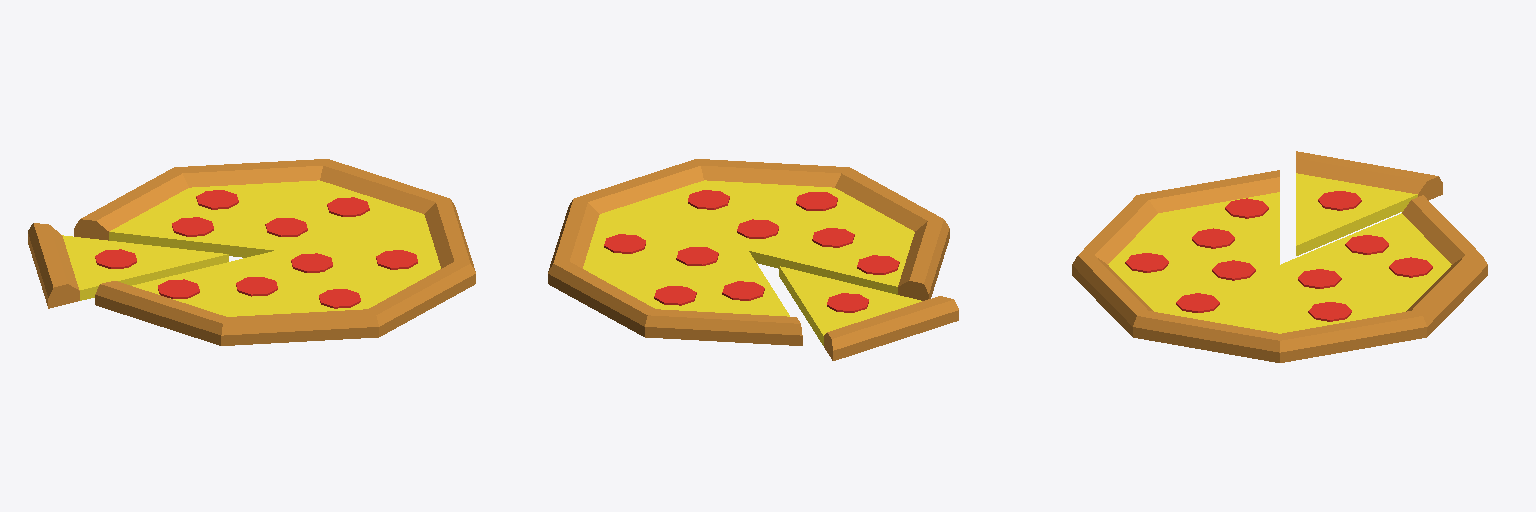
The model's file is Pepperoni_Pizza_01.obj.
The picture shows the model from 3 angles: view 1: azimuth 30°, elevation 25°; view 2: azimuth 150°, elevation 25°; view 3: azimuth 270°, elevation 25°; orthographic projection.
Visible parts, largest first — view 1: Circle.009; view 2: Circle.009; view 3: Circle.009.
Boxes of the visible parts, box(x1,y1,x2,y2) form: Circle.009: box(28, 159, 475, 345); Circle.009: box(548, 159, 958, 360); Circle.009: box(1072, 151, 1487, 362).
Size of the model in its own units: 16.05 by 0.7687 by 14.5.